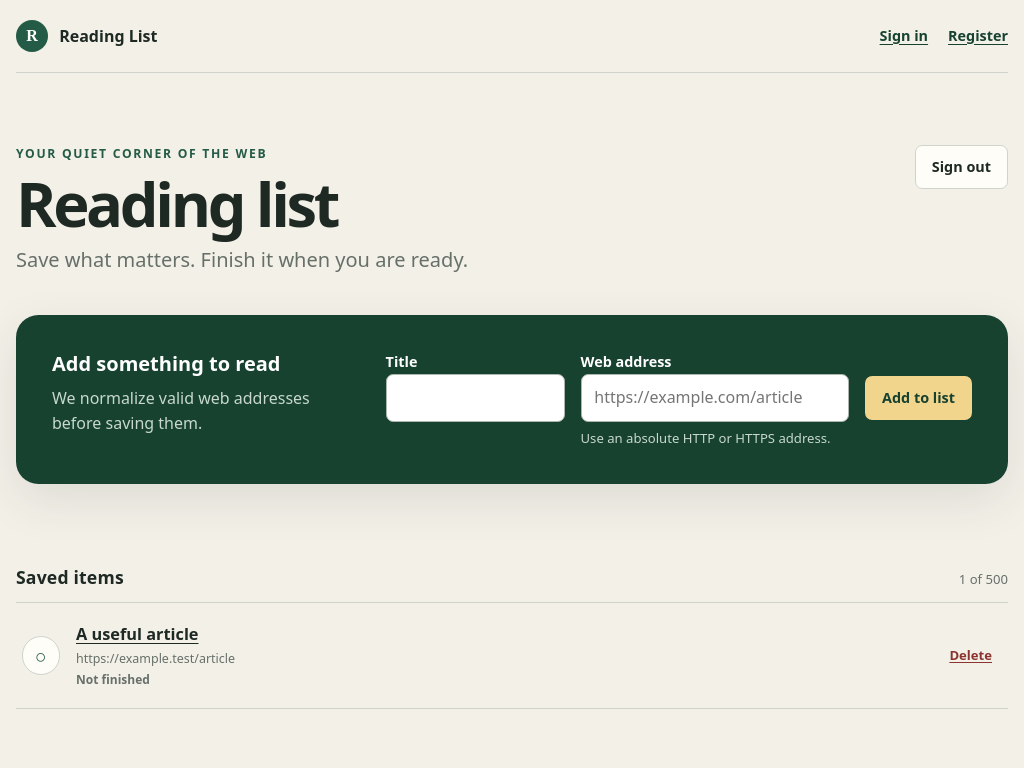
Scenario: reading-list mutations › toggles with the exact strong version precondition and refreshes the list
Click the button named "Mark as finished: A useful article". click: (41, 656)
box: [22, 636, 60, 675]
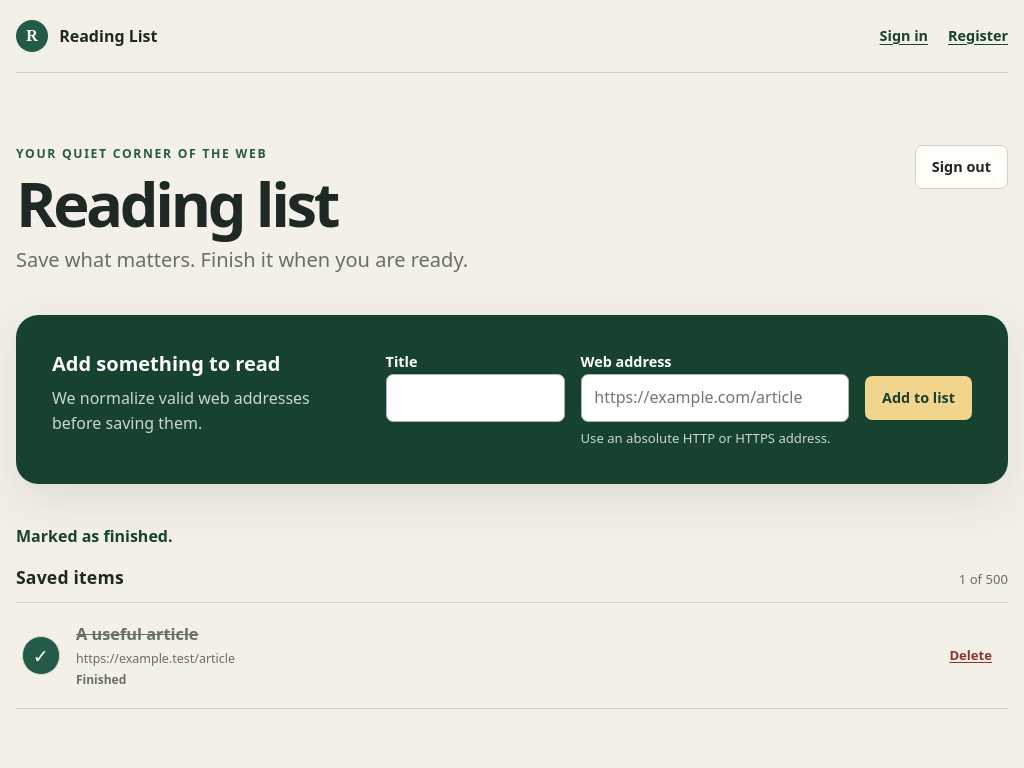
Check: the text "Finished" is shown, box [76, 671, 126, 688]
Check: the text "Marked as finished." is shown, box [16, 525, 172, 547]
